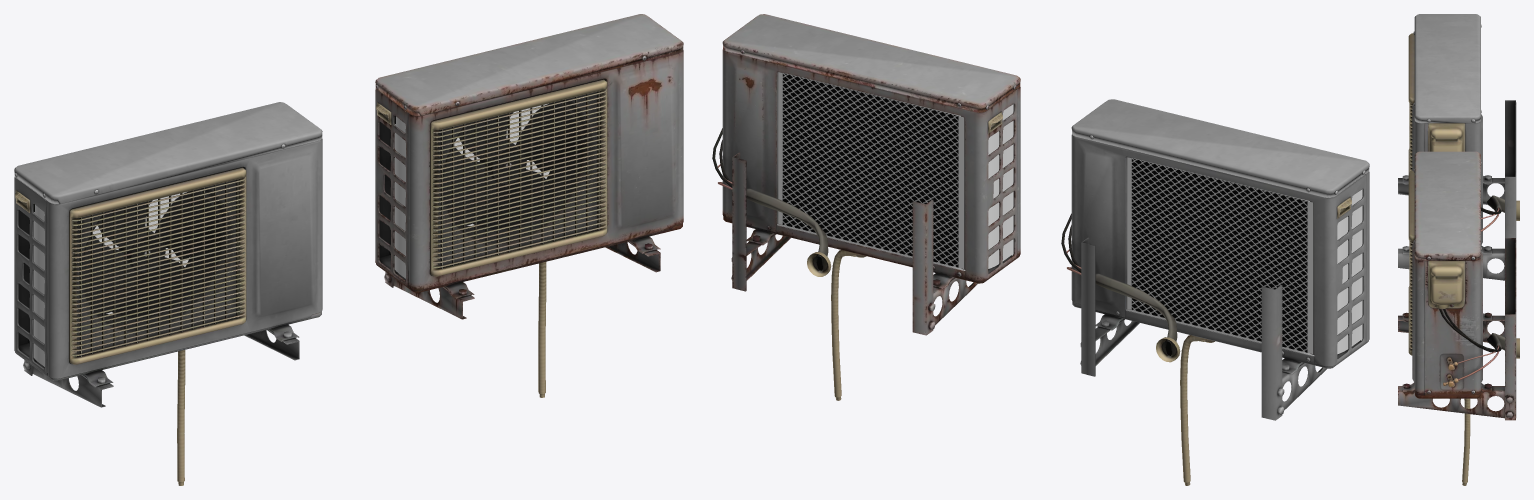
File: exterior_aircon_unit_1k.high.glb
3 views of the same model, side by side, from view 1: azimuth 30°, elevation 25°; view 2: azimuth 150°, elevation 25°; view 3: azimuth 270°, elevation 25° (orthographic). The views are drawn at different scales.
Parts seen in each view (by area): view 1: exterior_aircon_unit_rusted, exterior_aircon_unit; view 2: exterior_aircon_unit, exterior_aircon_unit_rusted; view 3: exterior_aircon_unit_rusted, exterior_aircon_unit.
Part boxes in pixels (x1,y1,x2,y2): exterior_aircon_unit_rusted: (375, 14, 683, 397); exterior_aircon_unit: (14, 102, 322, 485); exterior_aircon_unit: (1061, 99, 1369, 485); exterior_aircon_unit_rusted: (712, 14, 1020, 400); exterior_aircon_unit_rusted: (1398, 151, 1519, 485); exterior_aircon_unit: (1398, 14, 1519, 280).
Bounding box in the file's own units: 1.8 × 0.9279 × 0.3742.
4 materials, 4 textured.
